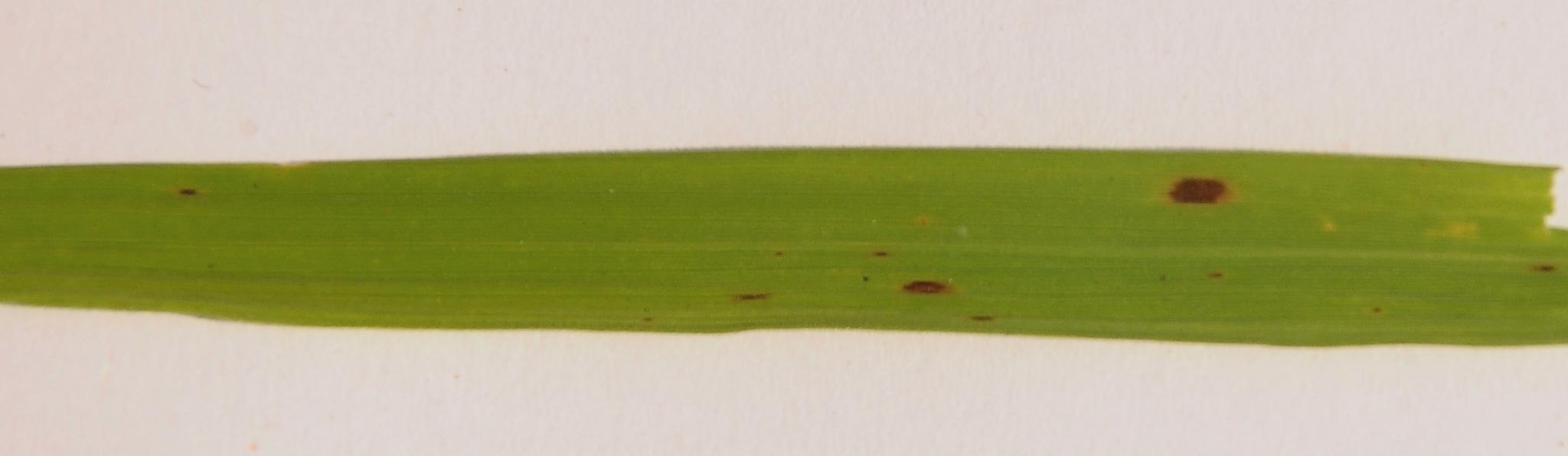Bacterial_Leaf_Blight: (1153, 156, 1234, 217), (1491, 243, 1567, 299), (713, 268, 803, 311), (900, 255, 963, 311), (161, 165, 213, 206)
